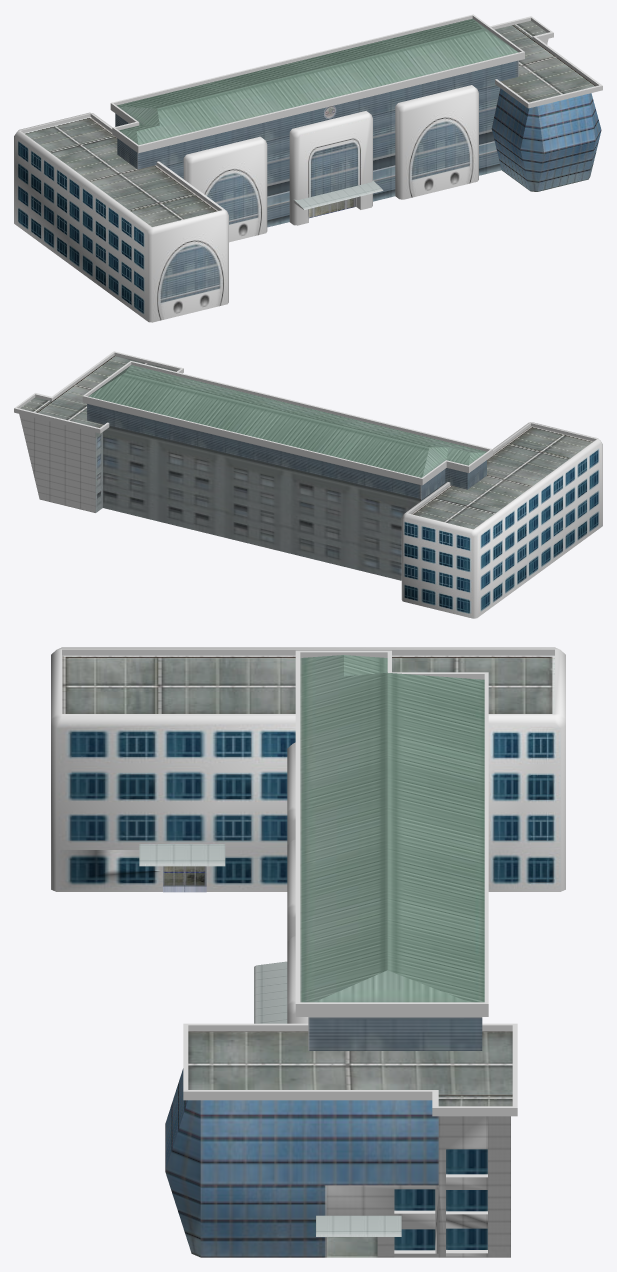
3 views of the same model, one above another, from view 1: azimuth 30°, elevation 25°; view 2: azimuth 150°, elevation 25°; view 3: azimuth 270°, elevation 25° (orthographic). The views are drawn at different scales.
Visible parts, largest first — view 1: 5c19adfa00164a2154f7323c.001; view 2: 5c19adfa00164a2154f7323c.001; view 3: 5c19adfa00164a2154f7323c.001.
Boxes of the visible parts, x1,y1,x2,y2 form: 5c19adfa00164a2154f7323c.001: [14, 14, 602, 322]; 5c19adfa00164a2154f7323c.001: [14, 351, 602, 618]; 5c19adfa00164a2154f7323c.001: [51, 647, 565, 1257].
Bounding box in the file's own units: 85.01 × 20.1 × 40.
1 material, 1 textured.
